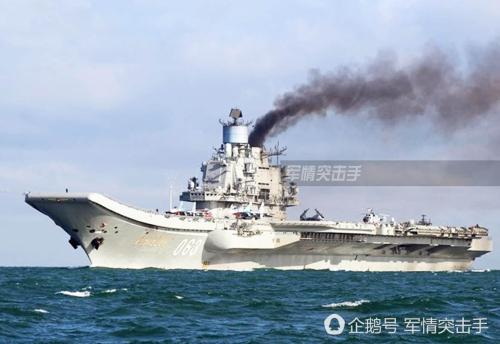smoke: (251, 37, 500, 146)
